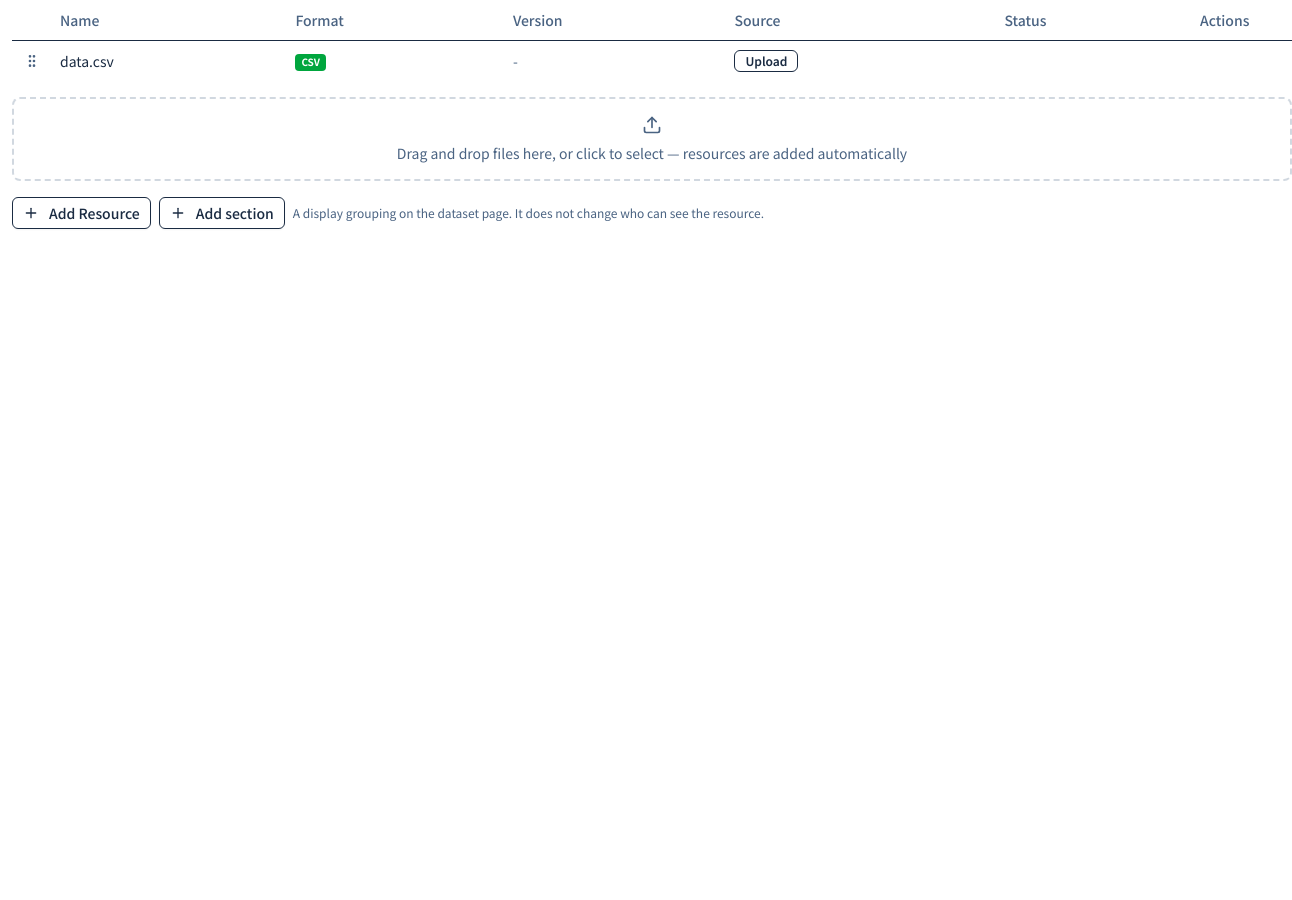
ResourceList drop-to-create › toggles the inline editor open and closed on row click
// First row click opens the editor.
Click the text "data.csv". click: (87, 60)
box: 52,40 -> 287,80
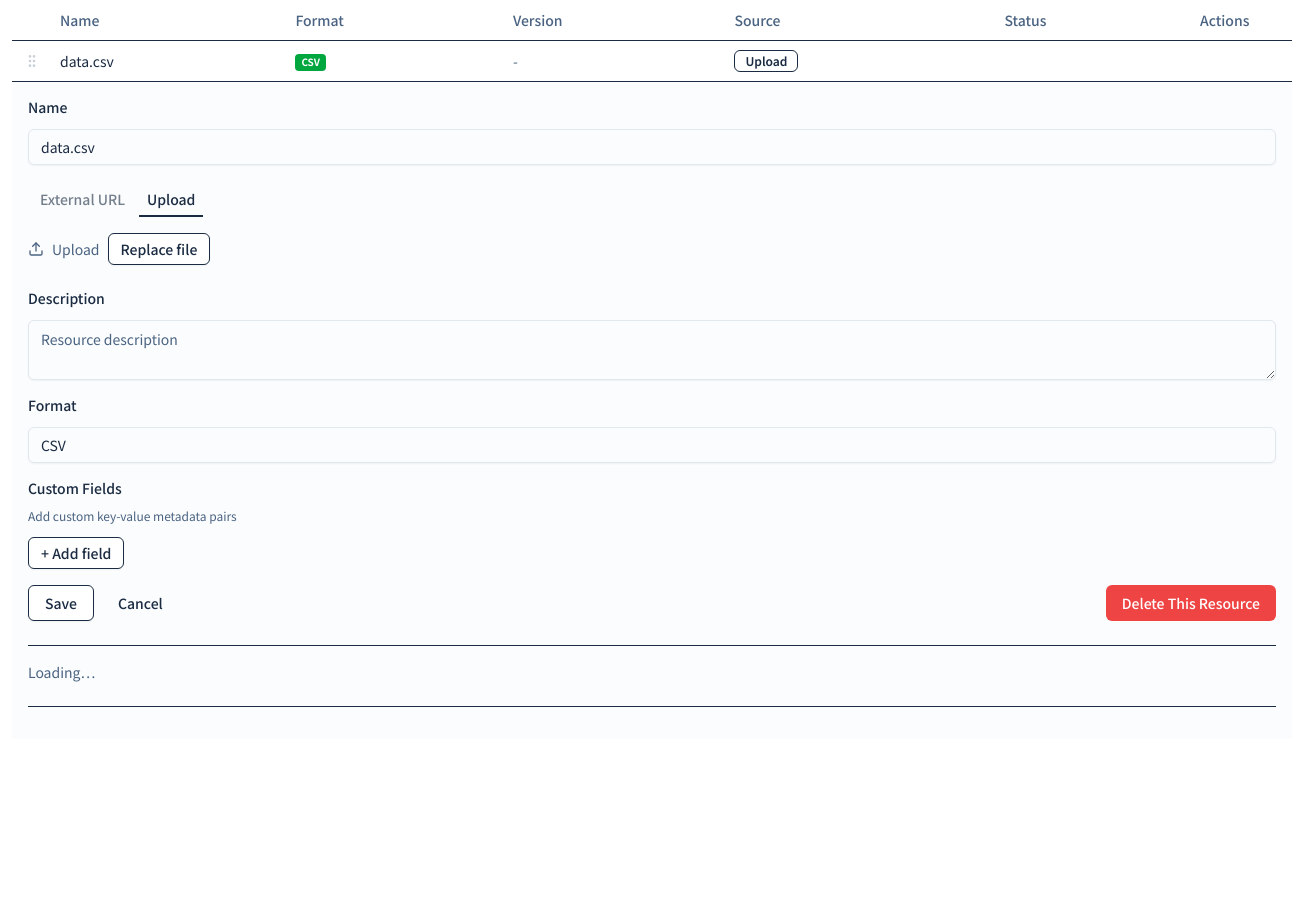
Result: the button "Save" is shown at 28,584 -> 94,620
// Clicking the same row again closes it (toggle).
Click the text "data.csv". click: (87, 60)
box: 52,40 -> 287,81
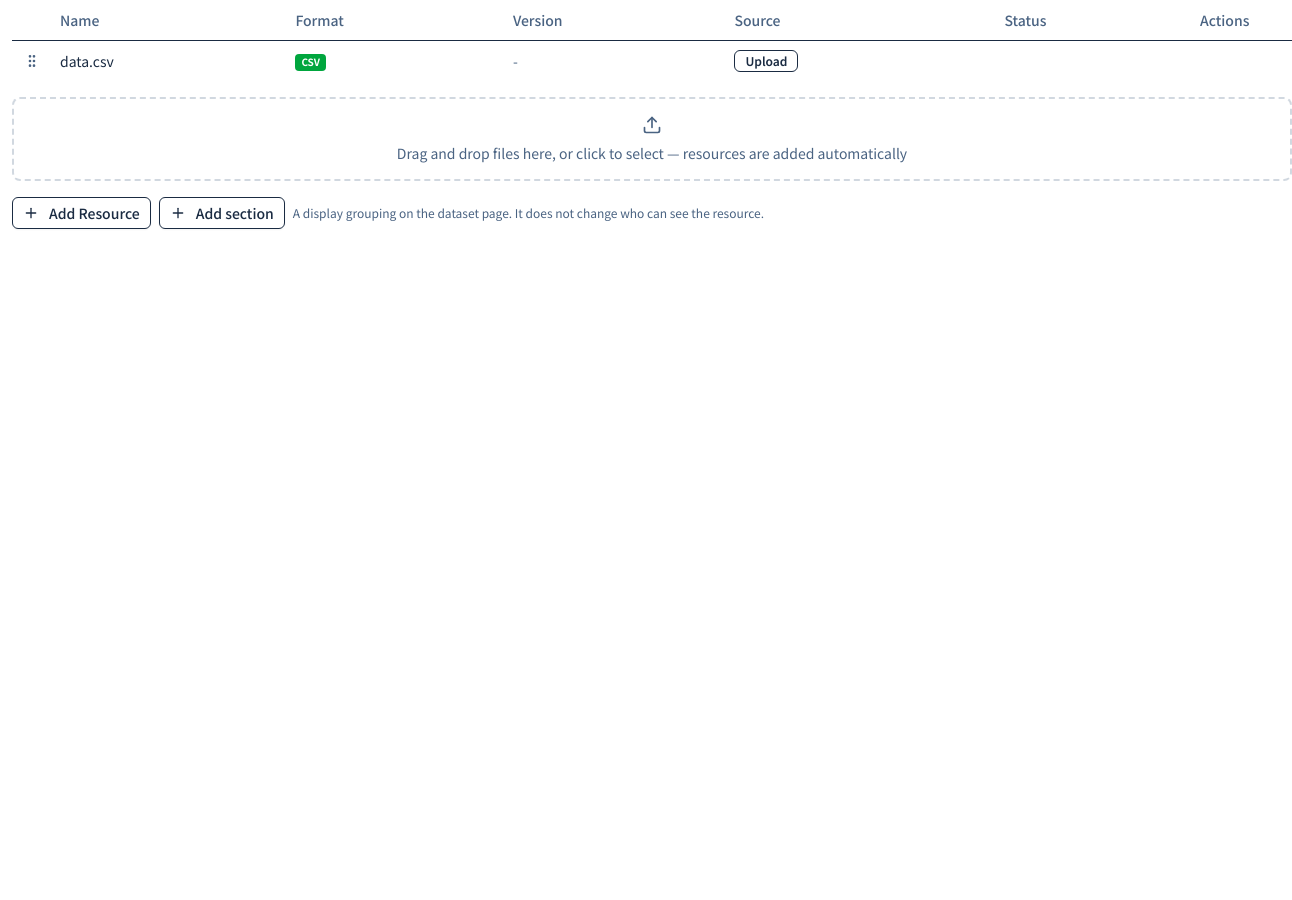
Result: the button "Save" is gone
